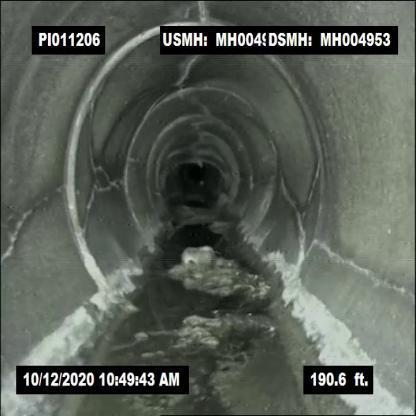Crack: (316, 233, 413, 296), (6, 186, 66, 259), (283, 178, 314, 236), (85, 114, 98, 239), (193, 2, 212, 23)
Debris: (180, 244, 217, 277)
